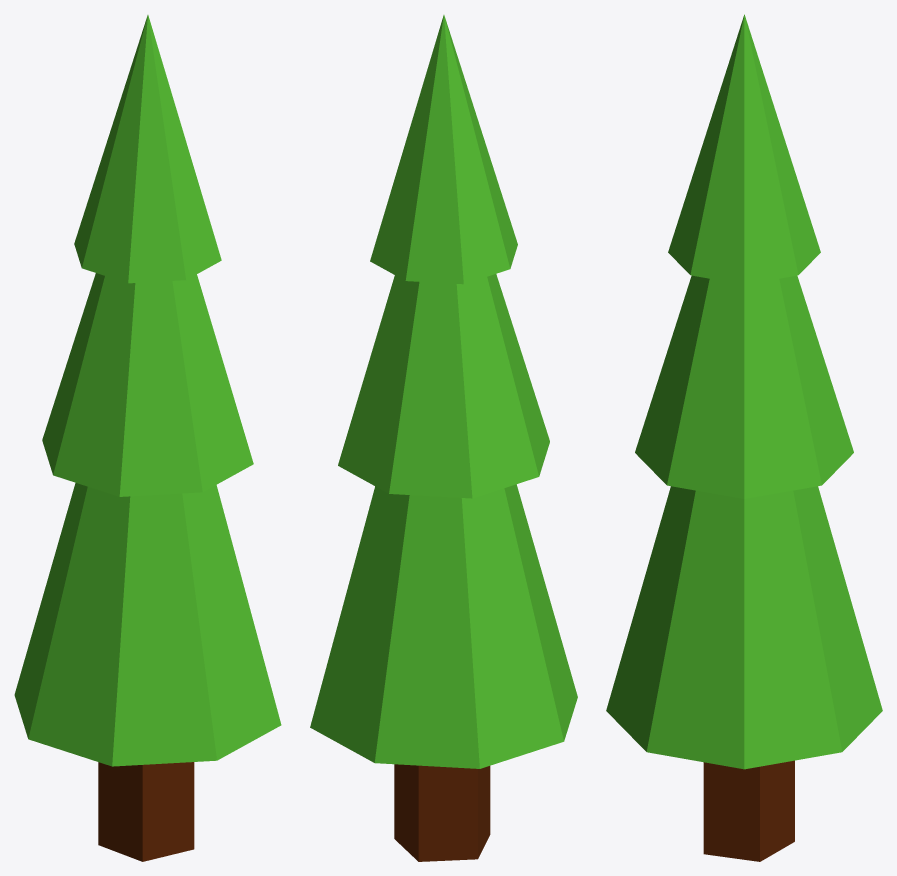
File: Tree.obj
3 views of the same model, side by side, from view 1: azimuth 30°, elevation 25°; view 2: azimuth 150°, elevation 25°; view 3: azimuth 270°, elevation 25° (orthographic).
Visible parts, largest first — view 1: Cylinder; view 2: Cylinder; view 3: Cylinder.
Part boxes in pixels (x1,y1,x2,y2): Cylinder: (14,15,281,861); Cylinder: (310,15,577,861); Cylinder: (606,14,882,861).
Bounding box in the file's own units: 2 × 6.6 × 2.
